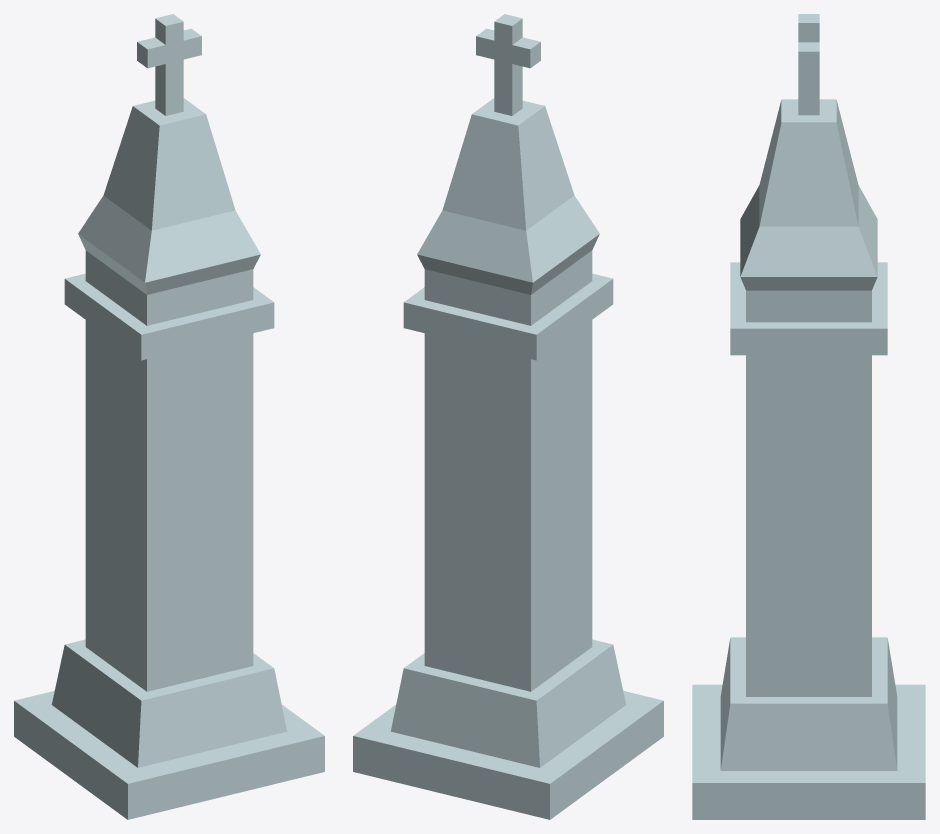
Rendered from crossColumn.glb.
The picture shows the model from 3 angles, left to right: view 1: azimuth 30°, elevation 25°; view 2: azimuth 150°, elevation 25°; view 3: azimuth 270°, elevation 25°; orthographic projection. The views are drawn at different scales.
Parts seen in each view (by area): view 1: crossColumn; view 2: crossColumn; view 3: crossColumn.
Boxes of the visible parts, left/top/right/bottom form: crossColumn: left=14, top=14, right=324, bottom=819; crossColumn: left=353, top=14, right=663, bottom=819; crossColumn: left=692, top=14, right=925, bottom=819.
Size of the model in its own units: 0.4 by 1.42 by 0.4.
